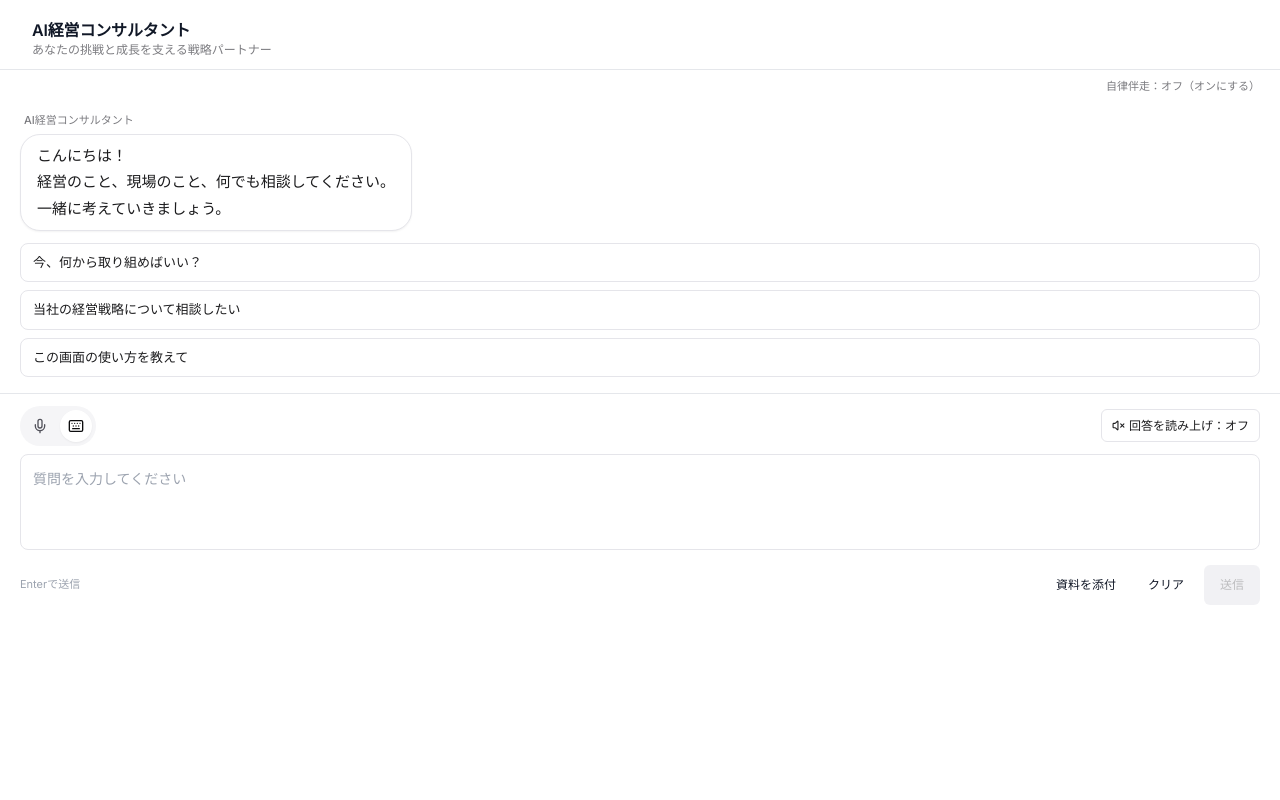
Scenario: 自律伴走：助言の失敗と再依頼 › 未保存の変更がある間は、助言を依頼しない（保存済みの内容だけで助言する）
The image size is (1280, 800).
Expected: the text box is enabled, 20,454 -> 1260,550
Click the button "自律伴走：オフ（オンにする）".
click(1183, 87)  # box 1106,78 -> 1260,96
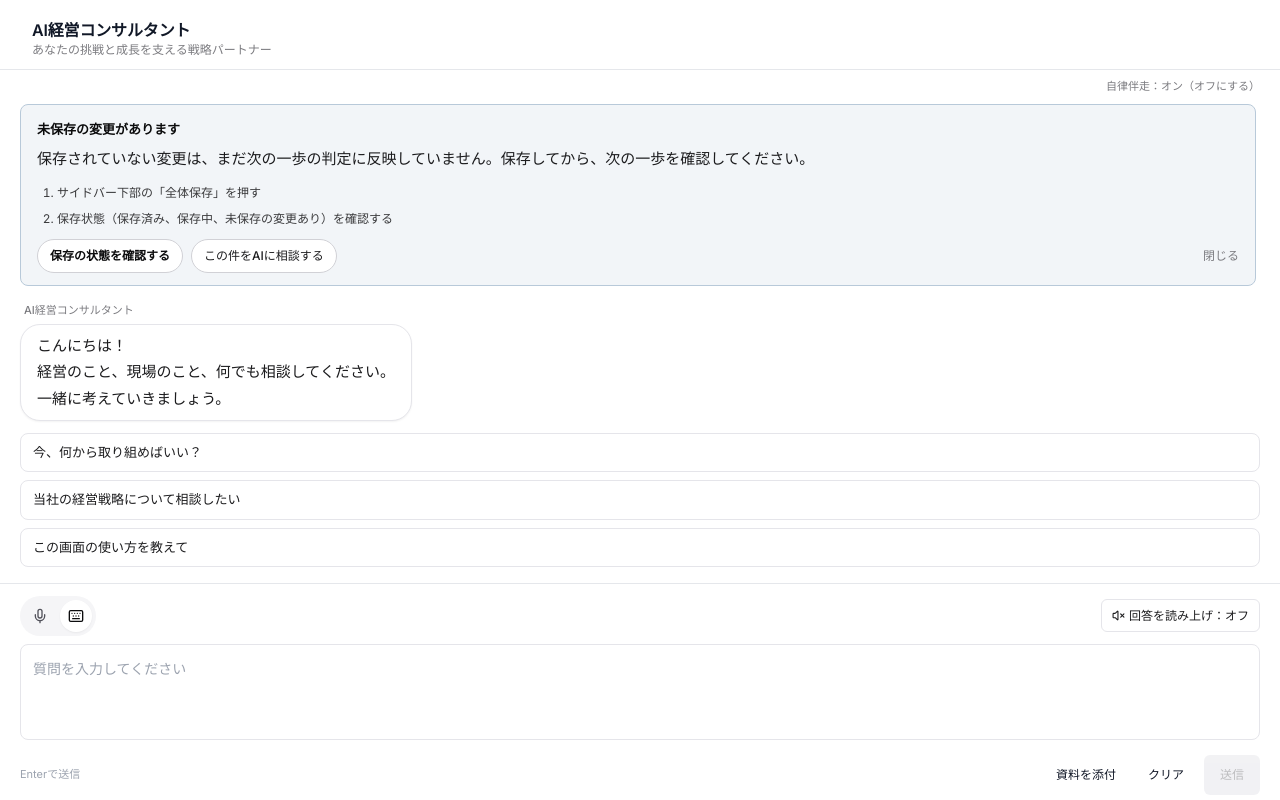
Expected: the element named "AI経営コンサルタントからの案内" shows "未保存の変更があります", 37,121 -> 180,137
